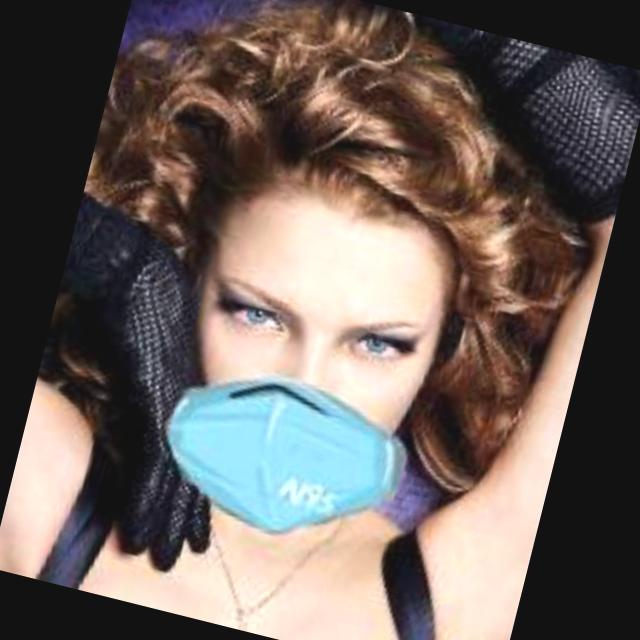suspicion: (114, 135, 483, 568)
